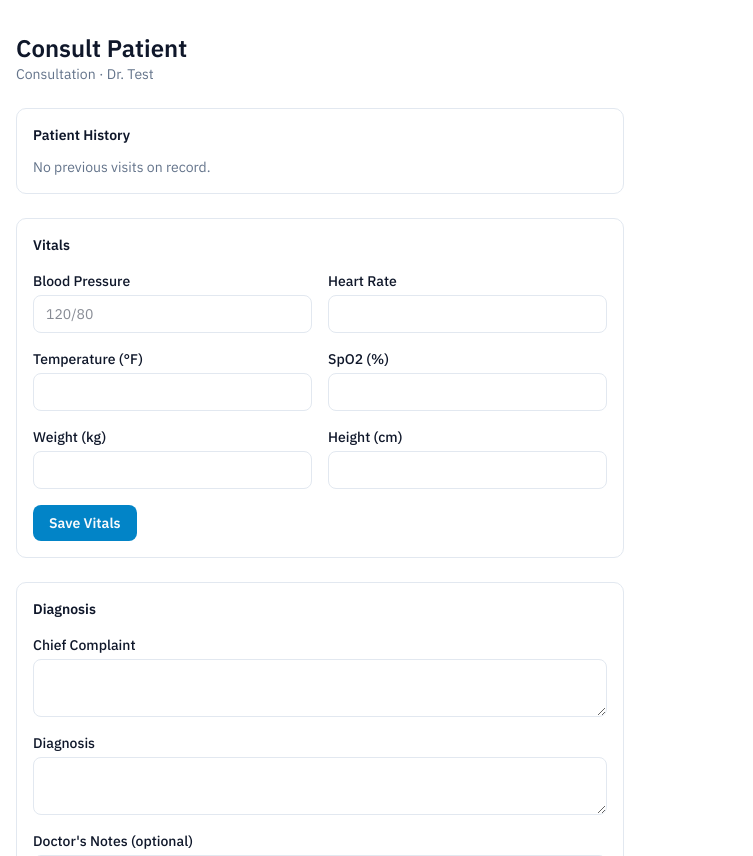
Test case: ConsultPage › saves the visit and reveals the prescription builder
This screenshot has width=753, height=856.
In the text box labelled "Chief Complaint": (320, 688) [33,659,607,717], type "Fever"
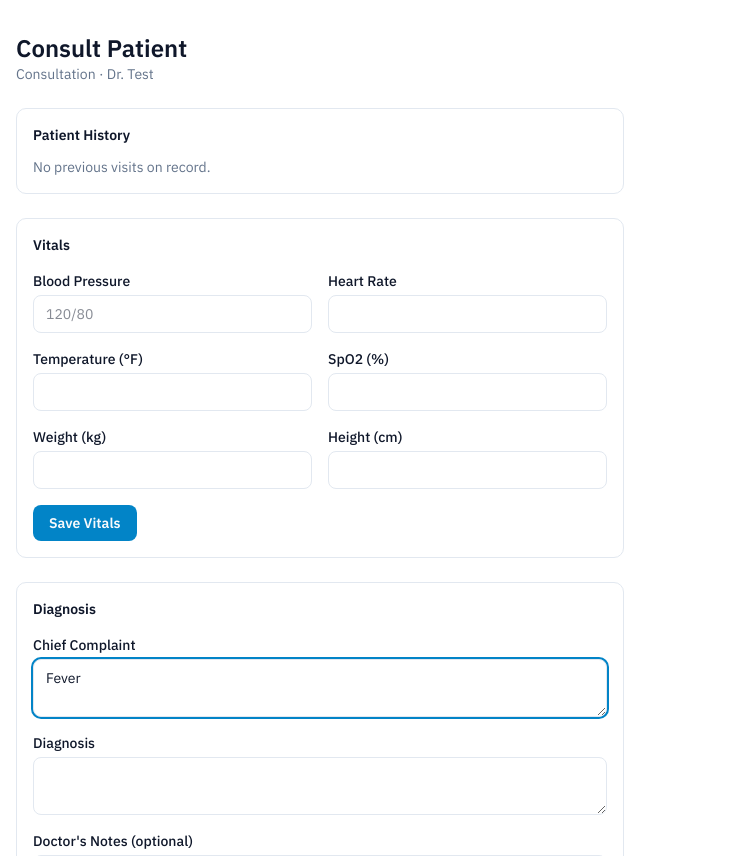
In the text box labelled "Diagnosis": (320, 786) [33,757,607,815], type "Viral fever"
(page scrolled)
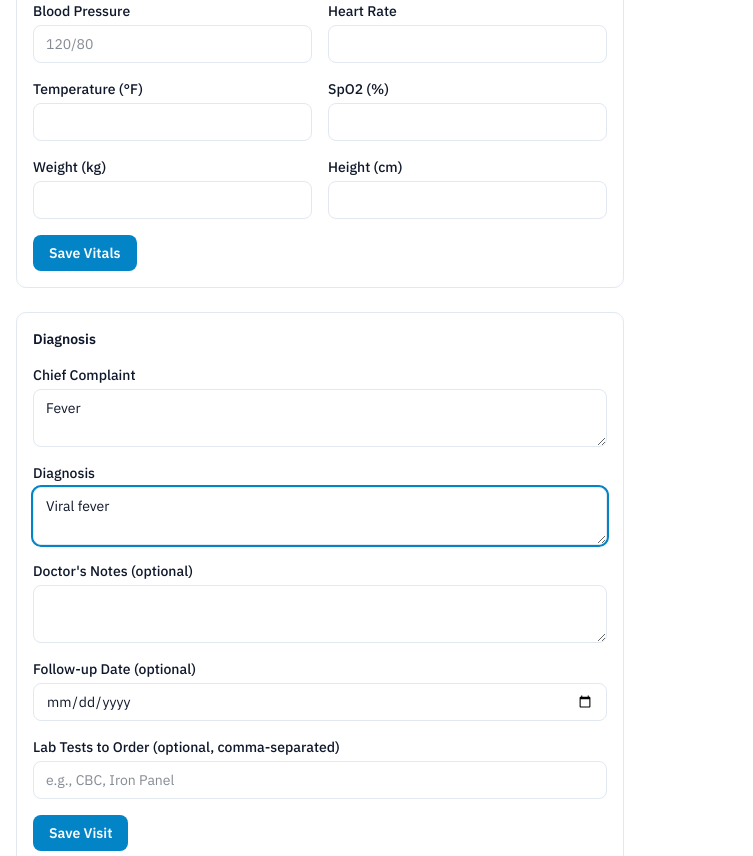
Click the button "Save Visit": (81, 833) [33,815,128,851]
(page scrolled)
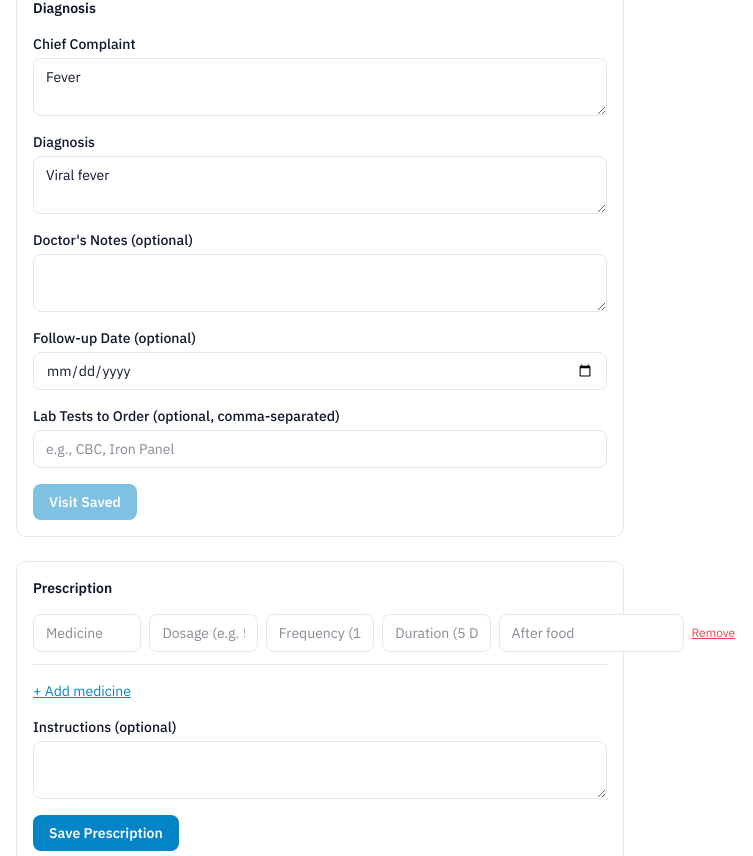
Result: the heading "Prescription" is shown at [33,579,112,597]
